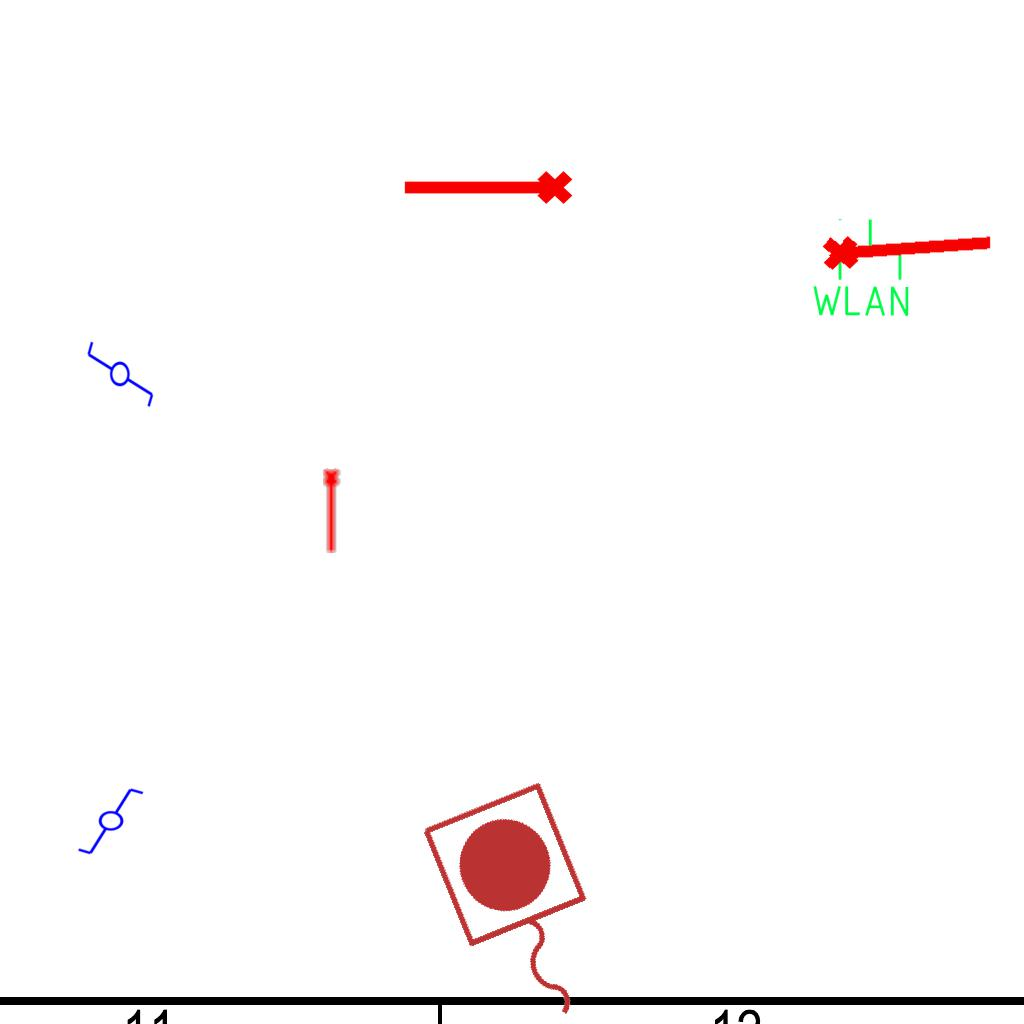ASR_Ansaugoeffnung: (818, 216, 998, 276), (399, 167, 575, 213), (321, 467, 344, 555)
WLAN: (808, 216, 913, 320)
Wechselschalter: (85, 331, 157, 409), (76, 786, 154, 858)
Zugtaster: (409, 771, 635, 1024)
